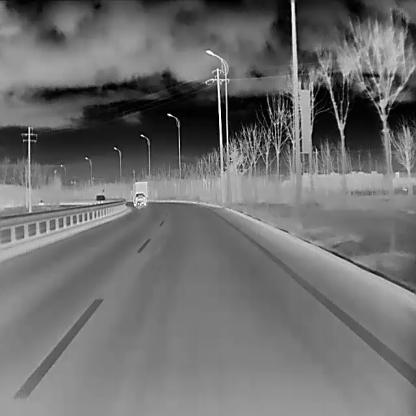car: (130, 180, 148, 200), (132, 193, 147, 206), (93, 195, 105, 207)
